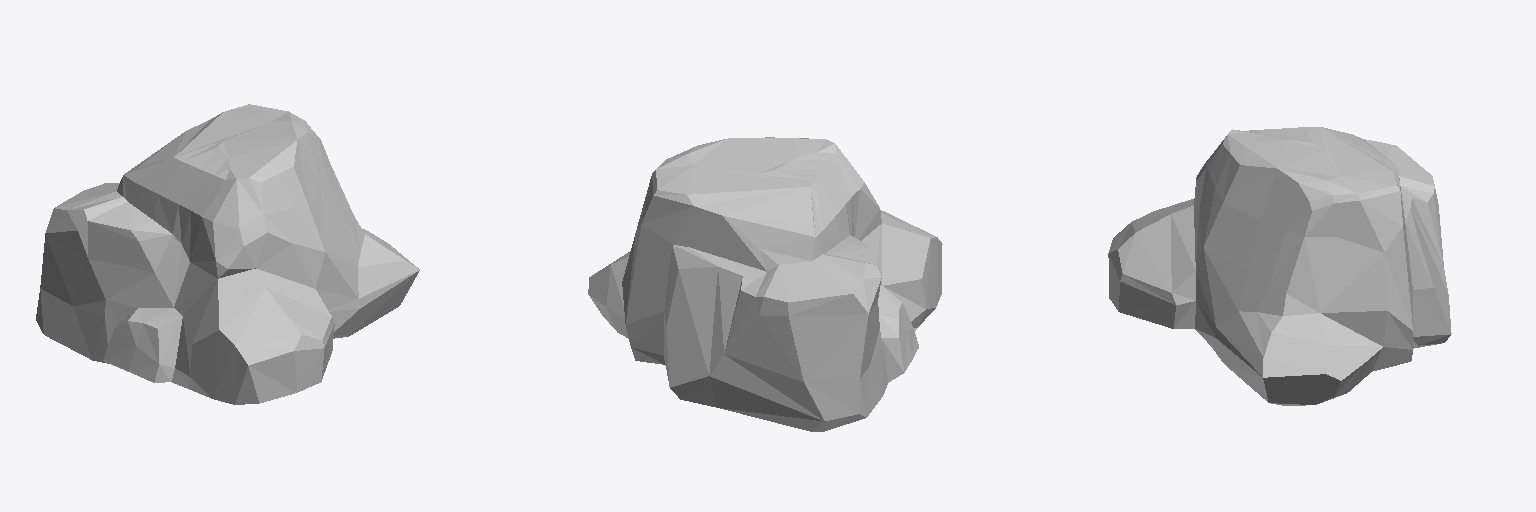
File: Rock_Medium_4.obj
3 views of the same model, side by side, from view 1: azimuth 30°, elevation 25°; view 2: azimuth 150°, elevation 25°; view 3: azimuth 270°, elevation 25° (orthographic).
Visible parts, largest first — view 1: Rock_Medium_4; view 2: Rock_Medium_4; view 3: Rock_Medium_4.
Boxes of the visible parts, x1,y1,x2,y2 form: Rock_Medium_4: [36, 104, 419, 404]; Rock_Medium_4: [588, 137, 942, 431]; Rock_Medium_4: [1108, 127, 1451, 405].
Bounding box in the file's own units: 3.78 × 2.48 × 3.61.